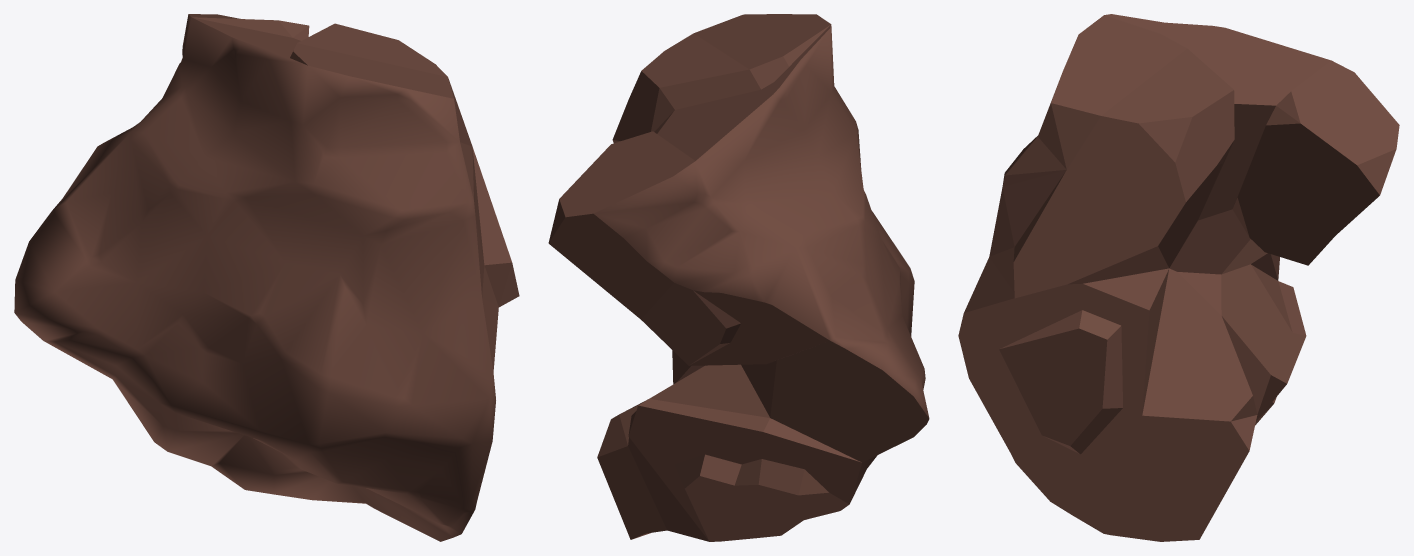
File: p_mesh_hvs_stalagmite_large_destruction_part07.fbx
3 views of the same model, side by side, from view 1: azimuth 30°, elevation 25°; view 2: azimuth 150°, elevation 25°; view 3: azimuth 270°, elevation 25° (orthographic). The views are drawn at different scales.
Parts seen in each view (by area): view 1: p_large_part7; view 2: p_large_part7; view 3: p_large_part7.
Part boxes in pixels (x1=…): p_large_part7: x1=14, y1=14, x2=519, y2=541; p_large_part7: x1=548, y1=14, x2=929, y2=541; p_large_part7: x1=958, y1=14, x2=1399, y2=541.
Size of the model in its own units: 6.9 by 9.12 by 7.84.
